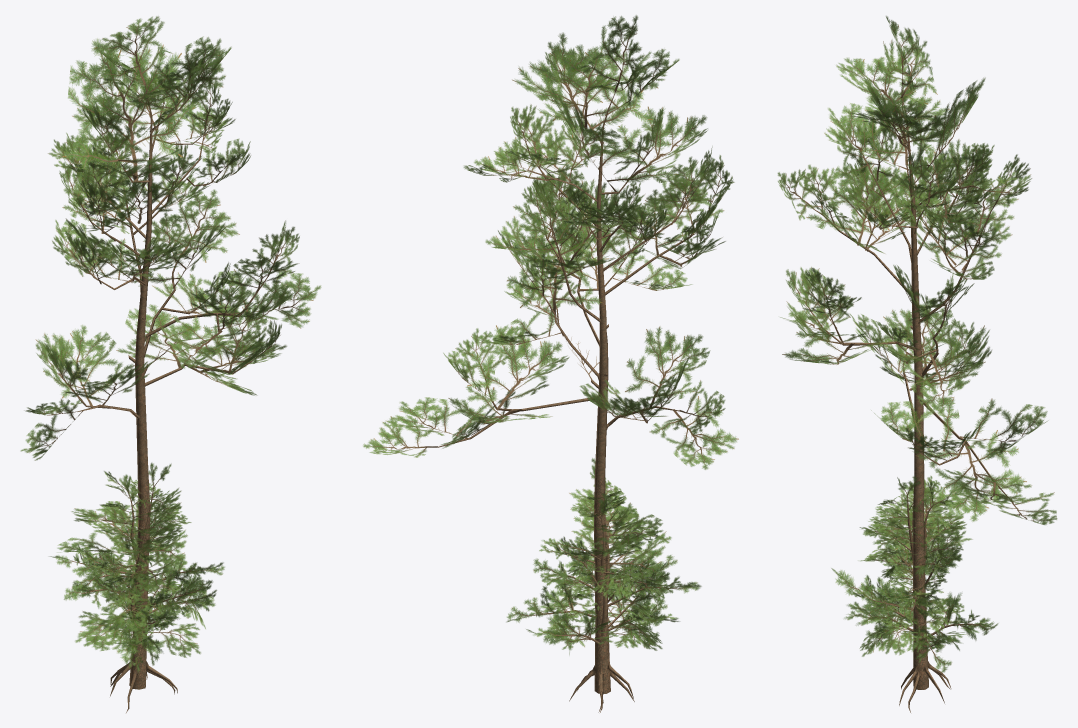
The model's file is trees_pine.glb.
3 renders of one model, left to right at view 1: azimuth 30°, elevation 25°; view 2: azimuth 150°, elevation 25°; view 3: azimuth 270°, elevation 25°, orthographic. The views are drawn at different scales.
Parts seen in each view (by area): view 1: Pine_medium_1_LOD2, Pine_small_1_LOD2, Pine_small_2_LOD2; view 2: Pine_medium_1_LOD2, Pine_small_2_LOD2, Pine_small_1_LOD2; view 3: Pine_medium_1_LOD2, Pine_small_1_LOD2, Pine_small_2_LOD2.
Boxes of the visible parts, x1,y1,x2,y2 form: Pine_medium_1_LOD2: [21, 16, 321, 712]; Pine_small_1_LOD2: [49, 462, 212, 650]; Pine_small_2_LOD2: [57, 471, 224, 672]; Pine_medium_1_LOD2: [363, 15, 738, 712]; Pine_small_2_LOD2: [506, 485, 679, 650]; Pine_small_1_LOD2: [526, 458, 701, 654]; Pine_medium_1_LOD2: [777, 16, 1057, 712]; Pine_small_1_LOD2: [831, 476, 998, 652]; Pine_small_2_LOD2: [844, 476, 972, 672].
Size of the model in its own units: 6.38 by 13.92 by 5.44.
Materials: 2 (2 with a texture image).
